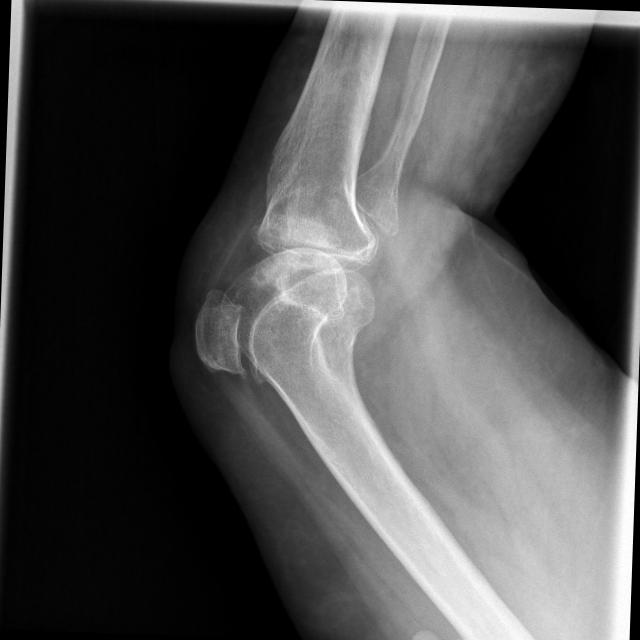Knee: (188, 178, 380, 382)
